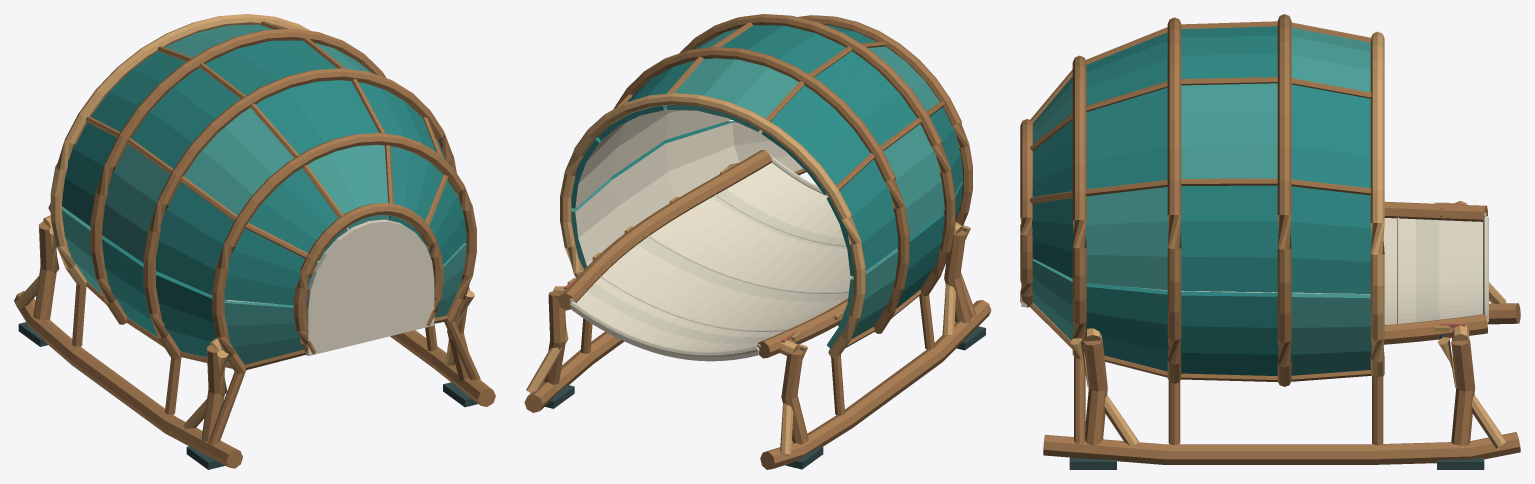
File: AST-RST-QC-001.glb
3 views of the same model, side by side, from view 1: azimuth 30°, elevation 25°; view 2: azimuth 150°, elevation 25°; view 3: azimuth 270°, elevation 25° (orthographic). The views are drawn at different scales.
Visible parts, largest first — view 1: Rear ivory acoustic diffuser, Exposed ash hood rib 04, Exposed ash hood rib 03, Hood petal 03-05, Exposed ash hood rib 02, Hood petal 03-04, Hood petal 03-06, L curved continuous ground skid, Hood petal 02-05, Exposed ash hood rib 01, Hood petal 02-06, Hood petal 04-06 (+30 smaller); view 2: Concave stretched rest membrane, Exposed ash hood rib 01, Exposed ash hood rib 02, Exposed ash hood rib 03, L curved continuous ground skid, Hood petal 01-05, Hood petal 01-04, Hood petal 02-05, R curved ash membrane rail, Hood petal 01-06, Hood petal 02-06, Hood petal 03-01 (+27 smaller); view 3: Hood petal 02-02, Concave stretched rest membrane, R curved continuous ground skid, Hood petal 02-03, Hood petal 01-02, Hood petal 02-01, Hood petal 03-02, Hood petal 01-03, Hood petal 03-03, Hood petal 01-01, Hood petal 03-01, Exposed ash hood rib 02 (+28 smaller).
Boxes of the visible parts, x1,y1,x2,y2 form: Rear ivory acoustic diffuser: (305,219,434,355); Exposed ash hood rib 04: (212,133,476,374); Exposed ash hood rib 03: (143,68,456,359); Hood petal 03-05: (184,108,293,215); Exposed ash hood rib 02: (90,28,386,324); Hood petal 03-04: (256,80,378,154); Hood petal 03-06: (156,182,234,295); L curved continuous ground skid: (14,291,242,468); Hood petal 02-05: (131,67,240,168); Exposed ash hood rib 01: (50,14,310,286); Hood petal 02-06: (102,144,169,262); Hood petal 04-06: (224,228,317,305); Concave stretched rest membrane: (571,163,853,361); Exposed ash hood rib 01: (560,93,865,357); Exposed ash hood rib 02: (613,47,909,333); Exposed ash hood rib 03: (679,14,955,295); L curved continuous ground skid: (760,300,991,469); Hood petal 01-05: (761,85,870,194); Hood petal 01-04: (666,58,798,131); Hood petal 02-05: (814,51,916,145); R curved ash membrane rail: (558,150,771,310); Hood petal 01-06: (826,159,898,276); Hood petal 02-06: (883,124,944,237); Hood petal 03-01: (661,122,739,197); Hood petal 02-02: (1180,185,1278,292); Concave stretched rest membrane: (1127,218,1482,324); R curved continuous ground skid: (1043,432,1520,464); Hood petal 02-03: (1181,83,1277,178); Hood petal 01-02: (1290,186,1371,293); Hood petal 02-01: (1180,291,1278,375); Hood petal 03-02: (1085,187,1168,290); Hood petal 01-03: (1291,84,1370,188); Hood petal 03-03: (1086,87,1167,189); Hood petal 01-01: (1290,293,1371,375); Hood petal 03-01: (1085,283,1168,371); Exposed ash hood rib 02: (1277,14,1291,386).
Bounding box in the file's own units: 2.38 × 2.35 × 2.96.
